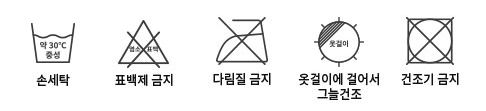KR_hand_wash_30_neutral: (29, 16, 77, 65)
KR_hang_dry_in_shade: (315, 15, 364, 67)
KR_no_chlorine_bleach: (117, 18, 171, 68)
KR_no_tumble_dry: (402, 12, 457, 68)
